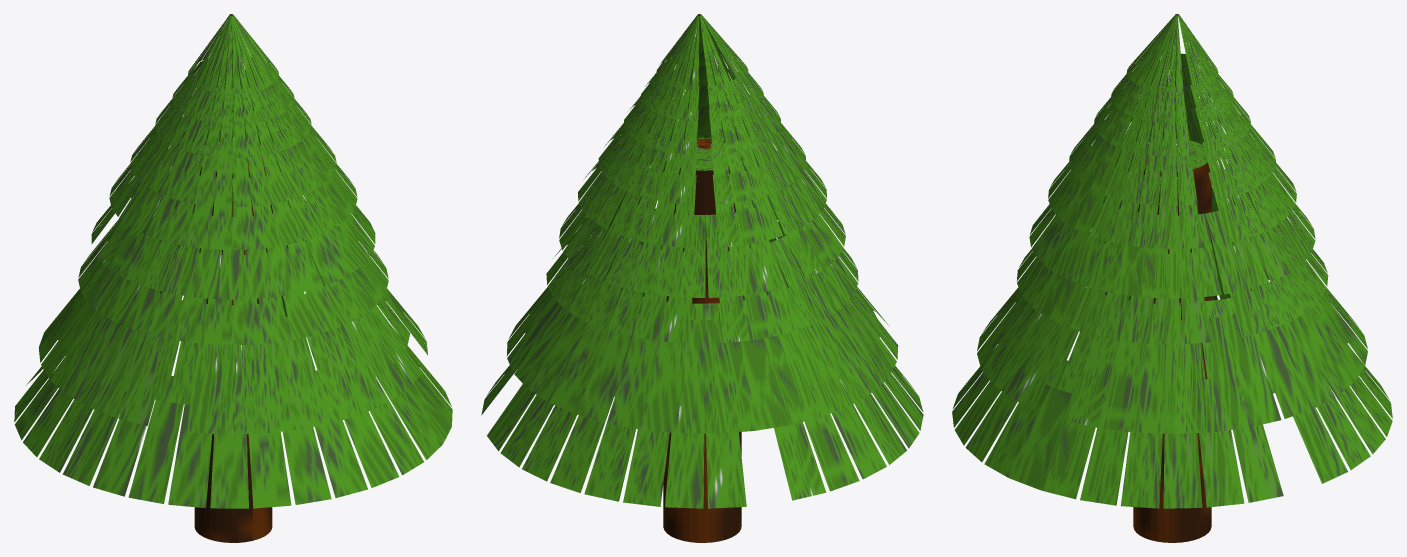
File: tree.fbx
3 renders of one model, left to right at view 1: azimuth 30°, elevation 25°; view 2: azimuth 150°, elevation 25°; view 3: azimuth 270°, elevation 25°, orthographic.
Visible parts, largest first — view 1: Cone, Cone.001, Cone.003, Cone.004, Cone.005, Cone.006, Cone.007, Cone.002, Cone.009, Cone.008, Cylinder; view 2: Cone.001, Cone, Cone.003, Cone.004, Cone.005, Cone.006, Cone.007, Cylinder, Cone.008, Cone.009, Cone.002; view 3: Cone.001, Cone, Cone.004, Cone.003, Cone.005, Cone.006, Cone.007, Cylinder, Cone.002, Cone.009, Cone.008.
Boxes of the visible parts, box(x1,y1,x2,y2) form: Cone: box(14, 270, 452, 508); Cone.001: box(38, 262, 427, 434); Cone.003: box(78, 189, 388, 345); Cone.004: box(91, 137, 375, 299); Cone.005: box(109, 109, 357, 250); Cone.006: box(130, 92, 336, 206); Cone.007: box(155, 69, 311, 157); Cone.002: box(58, 209, 410, 407); Cone.009: box(188, 14, 278, 93); Cone.008: box(172, 55, 294, 124); Cylinder: box(194, 140, 272, 542); Cone.001: box(506, 221, 898, 433); Cone: box(481, 267, 923, 508); Cone.003: box(546, 170, 858, 343); Cone.004: box(559, 135, 845, 297); Cone.005: box(578, 105, 826, 247); Cone.006: box(598, 86, 806, 204); Cone.007: box(624, 65, 780, 155); Cylinder: box(663, 137, 741, 542); Cone.008: box(641, 51, 763, 121); Cone.009: box(656, 14, 748, 90); Cone.002: box(525, 208, 879, 406); Cone.001: box(977, 241, 1367, 433); Cone: box(952, 261, 1392, 508); Cone.004: box(1029, 136, 1315, 298); Cone.003: box(1016, 171, 1328, 344); Cone.005: box(1048, 107, 1296, 248); Cone.006: box(1069, 88, 1275, 205); Cone.007: box(1094, 67, 1250, 156); Cylinder: box(1133, 139, 1211, 542); Cone.002: box(998, 208, 1347, 406); Cone.009: box(1126, 14, 1218, 91); Cone.008: box(1111, 53, 1233, 122).
Size of the model in its own units: 188 by 241 by 188.
